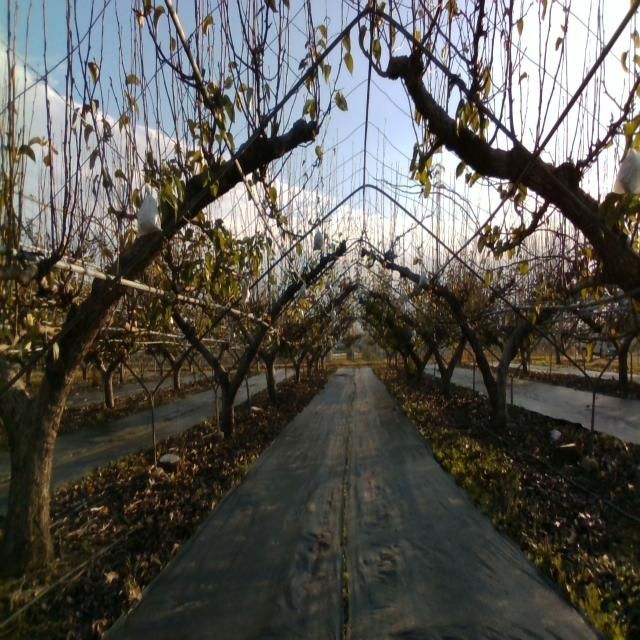pearbags: (135, 185, 163, 239), (613, 143, 640, 197), (312, 225, 326, 252), (417, 268, 430, 288)
